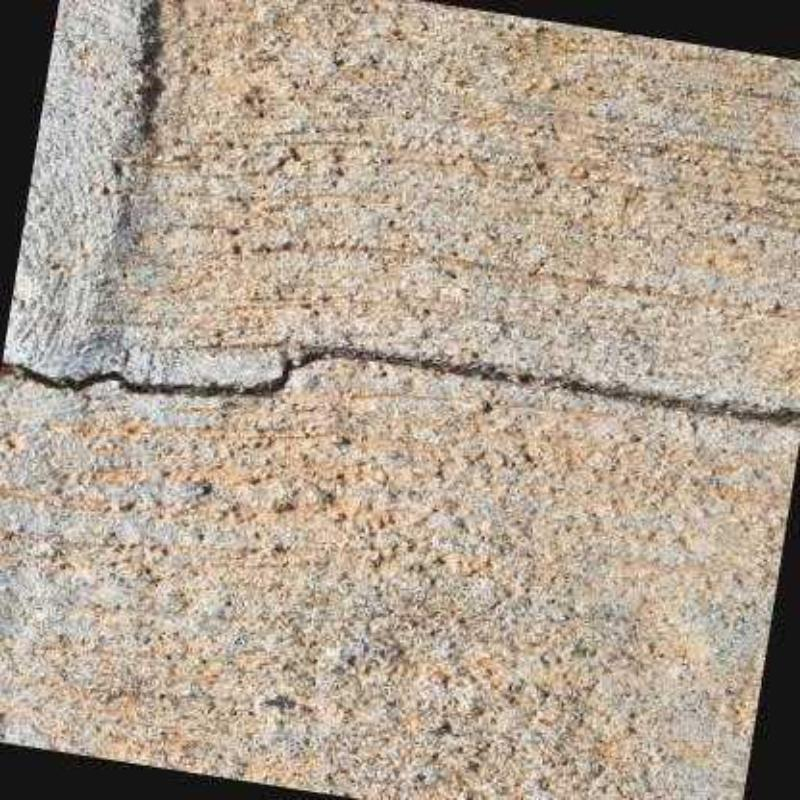pothole: (1, 346, 799, 423)
